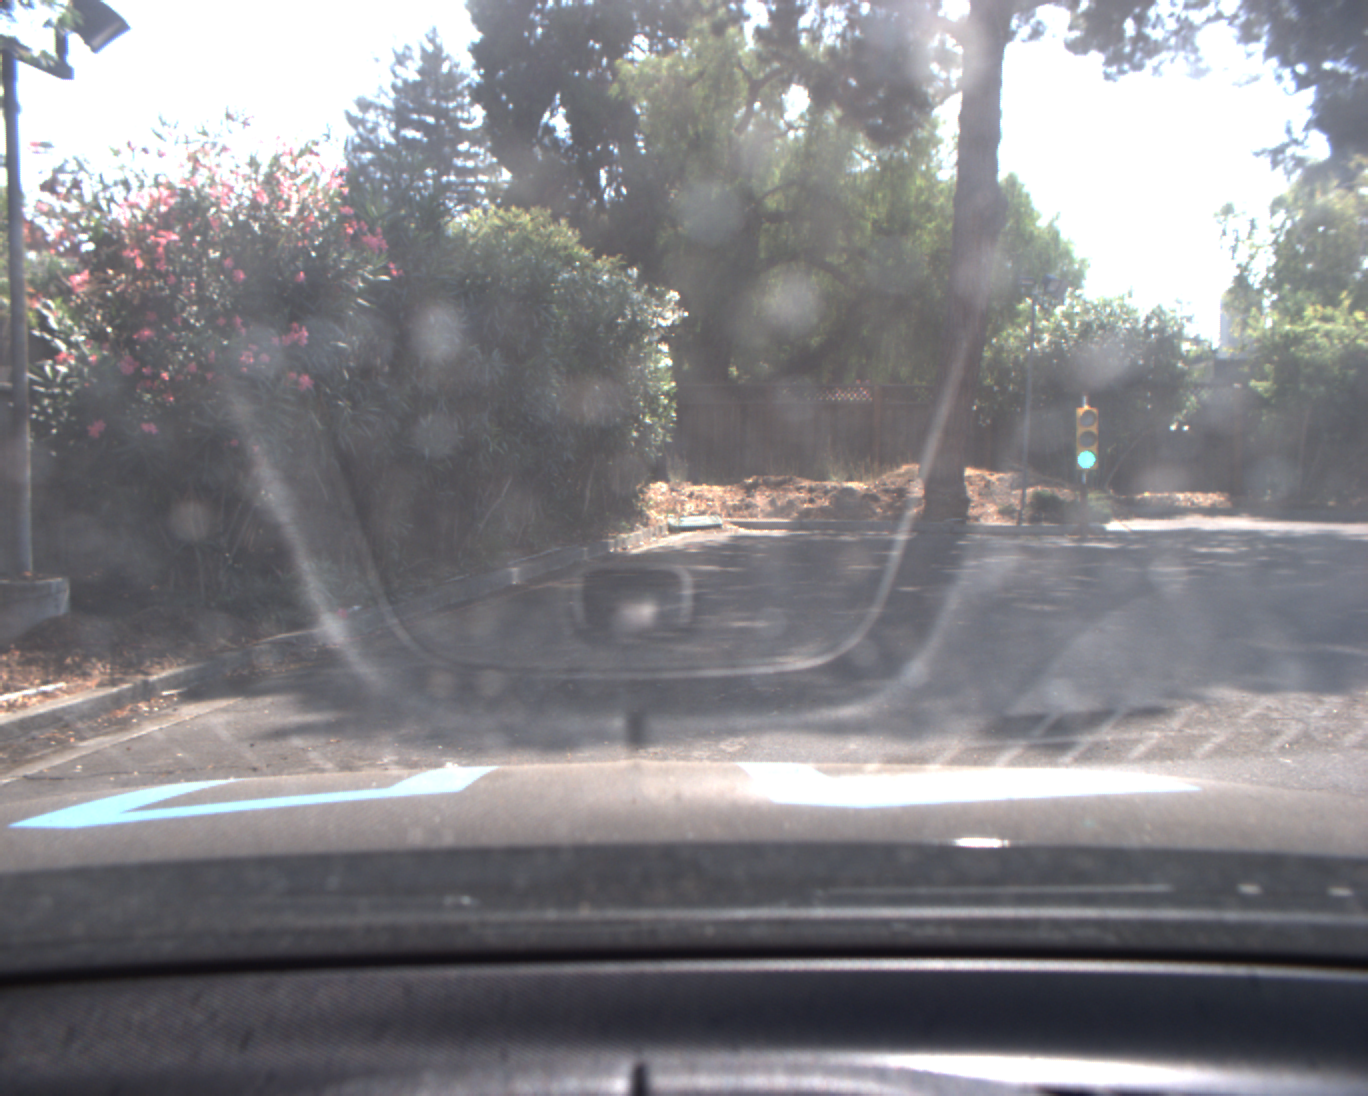green: (1077, 408, 1098, 471)
